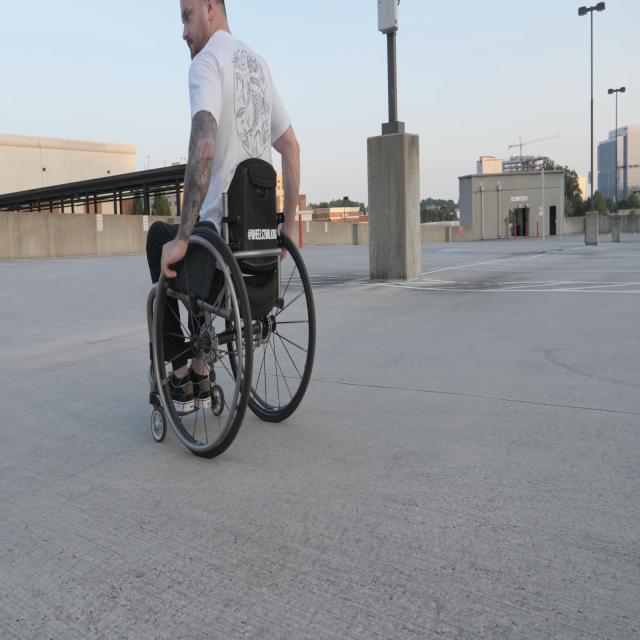wheelchairs: (147, 156, 316, 460)
